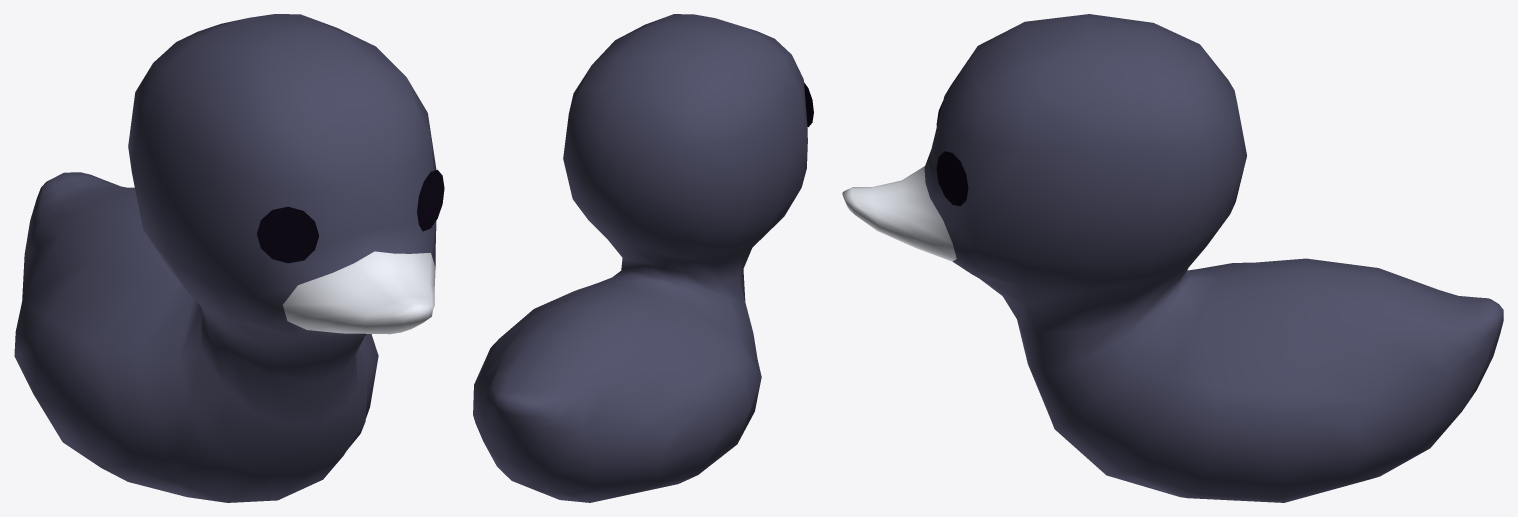
File: Duck_YinYang.fbx
3 renders of one model, left to right at view 1: azimuth 30°, elevation 25°; view 2: azimuth 150°, elevation 25°; view 3: azimuth 270°, elevation 25°, orthographic. The views are drawn at different scales.
Visible parts, largest first — view 1: Duck_YinYang; view 2: Duck_YinYang; view 3: Duck_YinYang.
Boxes of the visible parts, bbox=[...] form: Duck_YinYang: bbox=[14, 14, 444, 502]; Duck_YinYang: bbox=[473, 14, 813, 502]; Duck_YinYang: bbox=[842, 14, 1503, 502].
Bounding box in the file's own units: 76.94 × 124 × 165.
